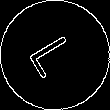L_NE: (25, 28, 85, 82)
